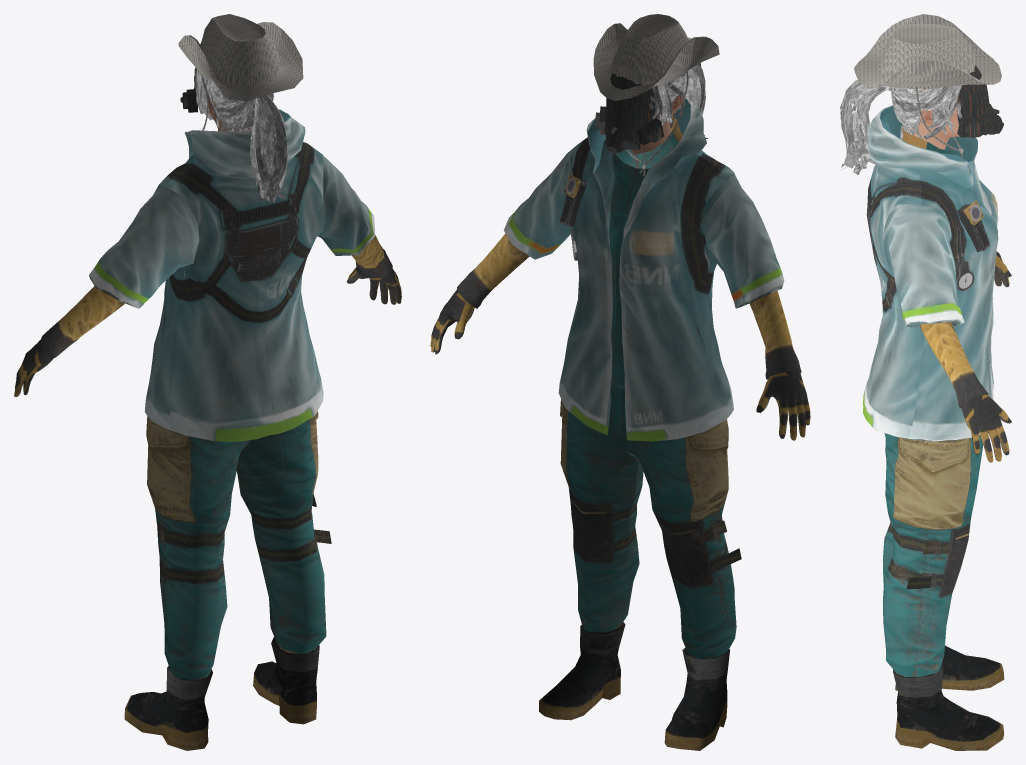
The model's file is mortal.glb.
3 renders of one model, left to right at view 1: azimuth 30°, elevation 25°; view 2: azimuth 150°, elevation 25°; view 3: azimuth 270°, elevation 25°, orthographic. The views are drawn at different scales.
Parts seen in each view (by area): view 1: Mesh_1347.rip, Mesh_1345.rip, Mesh_1349.rip, Mesh_1331.rip, Mesh_1351.rip; view 2: Mesh_1347.rip, Mesh_1345.rip, Mesh_1349.rip, Mesh_1331.rip, Mesh_1332.rip, Mesh_1351.rip; view 3: Mesh_1347.rip, Mesh_1345.rip, Mesh_1331.rip, Mesh_1349.rip, Mesh_1351.rip, Mesh_1332.rip, Mesh_1342.rip.
Part boxes in pixels (x1,y1,x2,y2): Mesh_1347.rip: (14,109,401,441); Mesh_1345.rip: (146,411,331,679); Mesh_1349.rip: (124,637,319,750); Mesh_1331.rip: (178,14,303,130); Mesh_1351.rip: (194,68,287,202); Mesh_1347.rip: (430,97,810,441); Mesh_1345.rip: (560,386,741,659); Mesh_1349.rip: (539,622,729,750); Mesh_1331.rip: (593,14,719,175); Mesh_1332.rip: (595,73,663,153); Mesh_1351.rip: (649,63,708,138); Mesh_1347.rip: (863,105,1011,462); Mesh_1345.rip: (882,433,983,677); Mesh_1331.rip: (854,14,1001,157); Mesh_1349.rip: (893,645,1004,750); Mesh_1351.rip: (840,80,962,174); Mesh_1332.rip: (957,65,1003,137); Mesh_1342.rip: (907,87,959,149).
Bounding box in the file's own units: 1.07 × 1.87 × 0.4308.
Materials: 7 (7 with a texture image).
